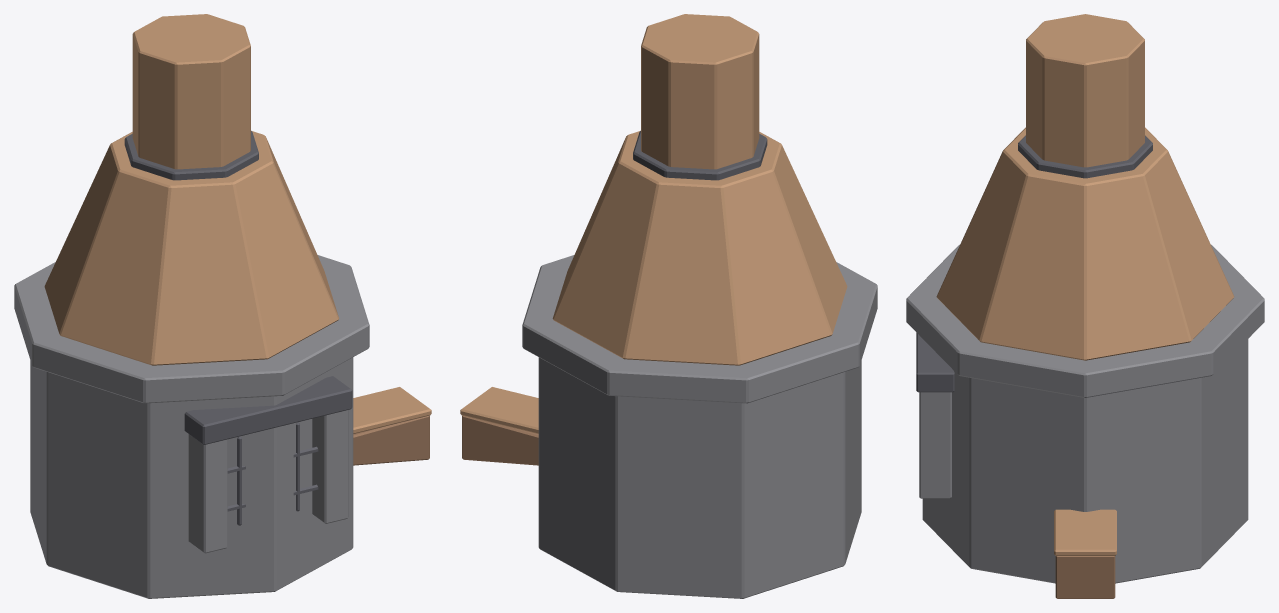
The model's file is prop_alchemical_forge.glb.
The picture shows the model from 3 angles, left to right: view 1: azimuth 30°, elevation 25°; view 2: azimuth 150°, elevation 25°; view 3: azimuth 270°, elevation 25°; orthographic projection. The views are drawn at different scales.
Visible parts, largest first — view 1: prop_alchemical_forge; view 2: prop_alchemical_forge; view 3: prop_alchemical_forge.
Boxes of the visible parts, <box> form: prop_alchemical_forge: <box>14,14,431,598</box>; prop_alchemical_forge: <box>460,14,877,598</box>; prop_alchemical_forge: <box>906,14,1264,598</box>.
Size of the model in its own units: 1.59 by 1.95 by 1.32.
